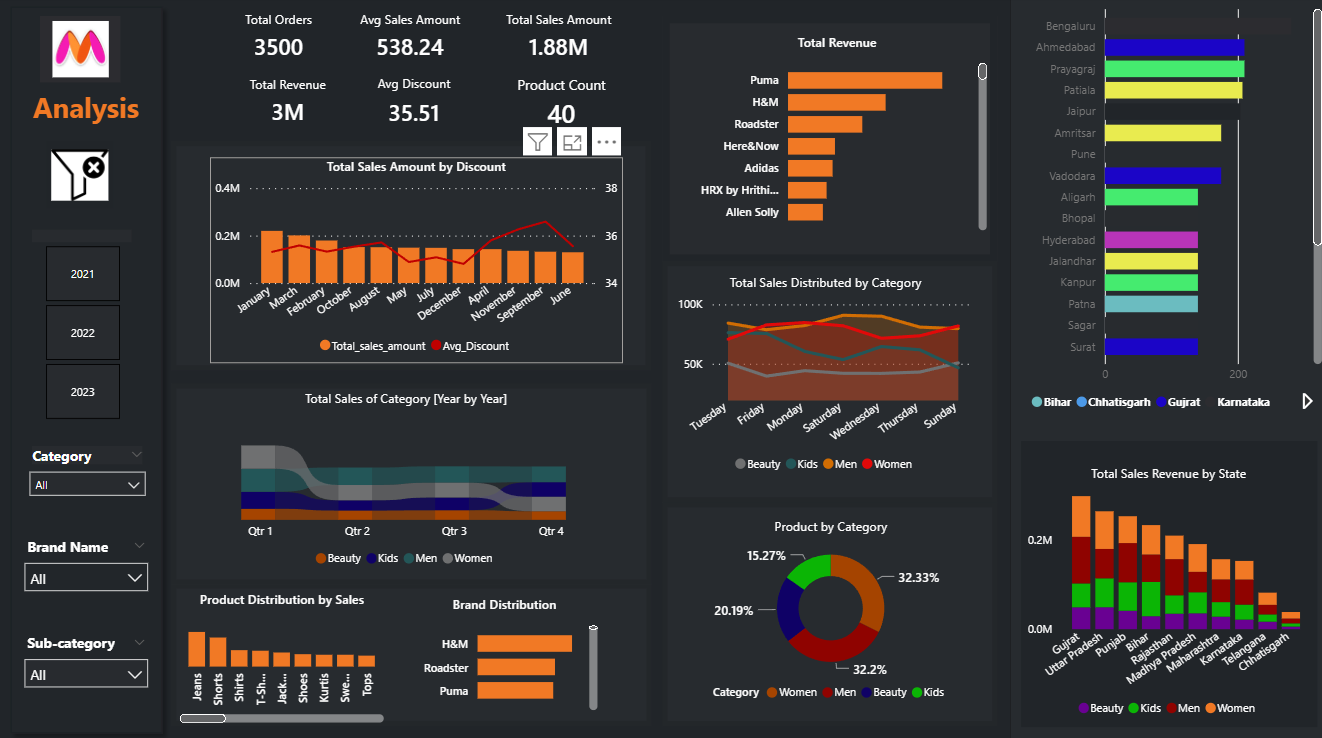

Layout of this report page (visuals, bound fields, positions):
{"tool":"powerbi","page":{"name":"Main","canvas":[1280,720],"ordinal":0},"visuals":[{"type":"shape","box":[975.5,0,304.9,719.4],"z":0},{"type":"shape","box":[975.1,0,304.9,719.4],"z":1000},{"type":"shape","box":[975.1,0.6,304.9,719.4],"z":2000},{"type":"shape","box":[975.1,0.6,304.9,719.4],"z":3000},{"type":"shape","box":[975.5,0,304.9,719.4],"z":4000},{"type":"shape","box":[1,1,164.6,719.4],"z":5000},{"type":"shape","box":[975.1,0.6,304.9,719.4],"z":6000},{"type":"shape","box":[975.1,0.6,304.9,719.4],"z":7000},{"type":"shape","box":[975.1,0.6,304.9,719.4],"z":8000},{"type":"shape","box":[975.1,0.6,304.9,719.4],"z":9000},{"type":"shape","box":[975.1,0.6,304.9,719.4],"z":10000},{"type":"shape","box":[975.1,0.6,304.9,719.4],"z":11000},{"type":"shape","box":[975.1,0.6,304.9,719.4],"z":12000},{"type":"shape","box":[975.1,0.6,304.9,719.4],"z":13000},{"type":"shape","box":[975.1,0.6,304.9,719.4],"z":14000},{"type":"shape","box":[975.1,0.6,304.9,719.4],"z":15000},{"type":"shape","box":[975.1,0.6,304.9,719.4],"z":16000},{"type":"shape","box":[975.1,0.6,304.9,719.4],"z":17000},{"type":"shape","box":[975.1,0.6,304.9,719.4],"z":18000},{"type":"shape","box":[975.1,0.6,304.9,719.4],"z":19000},{"type":"shape","box":[975.1,0.6,304.9,719.4],"z":20000},{"type":"shape","box":[975.1,0.6,304.9,719.4],"z":21000},{"type":"shape","box":[975.1,0.6,304.9,719.4],"z":22000},{"type":"shape","box":[975.1,0.6,304.9,719.4],"z":23000},{"type":"shape","box":[975.1,0.6,304.9,719.4],"z":24000},{"type":"shape","box":[975.1,0.6,304.9,719.4],"z":25000},{"type":"shape","box":[975.1,0.6,304.9,719.4],"z":26000},{"type":"shape","box":[975.1,0.6,304.9,719.4],"z":27000},{"type":"shape","box":[975.1,0.6,304.9,719.4],"z":28000},{"type":"shape","box":[975.1,0.6,304.9,719.4],"z":29000},{"type":"shape","box":[975.1,0.6,304.9,719.4],"z":30000},{"type":"shape","box":[975.1,0.6,304.9,719.4],"z":31000},{"type":"shape","box":[975.1,0.6,304.9,719.4],"z":32000},{"type":"shape","box":[975.1,0.6,304.9,719.4],"z":33000},{"type":"shape","box":[975.1,0.6,304.9,719.4],"z":34000},{"type":"shape","box":[975.1,0.6,304.9,719.4],"z":35000},{"type":"shape","box":[975.1,0.6,304.9,719.4],"z":36000},{"type":"shape","box":[975.1,0.6,304.9,719.4],"z":37000},{"type":"shape","box":[975.1,0.6,304.9,719.4],"z":38000},{"type":"shape","box":[975.1,0.6,304.9,719.4],"z":39000},{"type":"shape","box":[975.1,0.6,304.9,719.4],"z":40000},{"type":"shape","box":[975.1,0.6,304.9,719.4],"z":41000},{"type":"shape","box":[975.1,0.6,304.9,719.4],"z":42000},{"type":"shape","box":[975.1,0.6,304.9,719.4],"z":43000},{"type":"shape","box":[975.1,0.6,304.9,719.4],"z":44000},{"type":"shape","box":[975.1,0.6,304.9,719.4],"z":45000},{"type":"shape","box":[975.1,0.6,304.9,719.4],"z":46000},{"type":"shape","box":[975.1,0.6,304.9,719.4],"z":47000},{"type":"shape","box":[975.1,0.6,304.9,719.4],"z":48000},{"type":"shape","box":[975.1,0.6,304.9,719.4],"z":49000},{"type":"shape","box":[975.1,0.6,304.9,719.4],"z":50000},{"type":"shape","box":[975.1,0.6,304.9,719.4],"z":51000},{"type":"shape","box":[975.1,0.6,304.9,719.4],"z":52000},{"type":"shape","box":[975.1,0.6,304.9,719.4],"z":53000},{"type":"shape","box":[975.1,0.6,304.9,719.4],"z":54000},{"type":"shape","box":[975.1,0.6,304.9,719.4],"z":55000},{"type":"shape","box":[975.1,0.6,304.9,719.4],"z":56000},{"type":"shape","box":[975.1,0.6,304.9,719.4],"z":57000},{"type":"shape","box":[985.1,428.8,285.9,276.3],"z":58000},{"type":"shape","box":[639.7,18.9,323,237],"z":59000},{"type":"shape","box":[164.6,567.3,463.5,137.4],"z":61000},{"type":"shape","box":[639.7,488.7,323,216],"z":62000},{"type":"shape","box":[165.7,139.5,462.5,221.3],"z":63000},{"type":"shape","box":[639.7,255.9,323,232.8],"z":64000},{"type":"shape","box":[164.6,373.3,463.5,194],"z":65000},{"type":"textbox","box":[13.6,84.9,139.5,54.5],"z":66000},{"type":"slicer","title":"Category","fields":{"Values":["Date_table.Year"]},"box":[17.8,220.2,121.6,194],"z":67000},{"type":"card","title":"Total Orders","fields":{"Values":["Measures_Table.Total_orders"]},"box":[211.8,14.7,113.3,56.6],"z":68000},{"type":"card","title":"Avg Discount","fields":{"Values":["Measures_Table.Avg_Discount"]},"box":[334.3,75.5,131.1,59.8],"z":69000},{"type":"card","title":"Avg Sales Amount","fields":{"Values":["Measures_Table.Avg_sales_amount"]},"box":[325.1,14.7,140.5,56.6],"z":70000},{"type":"card","title":"Total Sales Amount","fields":{"Values":["Measures_Table.Total_sales_amount"]},"box":[471.1,14.7,135.3,56.6],"z":71000},{"type":"card","title":"Total Revenue","fields":{"Values":["Measures_Table.Sum_original_price"]},"box":[220.2,77.6,114.3,56.6],"z":72000},{"type":"card","title":"Product Count","fields":{"Values":["Count(dim_products.Product Name)"]},"box":[487.6,76.6,109.1,59.8],"z":73000},{"type":"barChart","title":"Total Revenue","fields":{"Y":["Sum(fact_orders.Sales Amount)"],"Category":["dim_products.Brand Name"]},"box":[658.6,35.7,298.9,195.1],"z":74000},{"type":"columnChart","title":"Total Sales Revenue by State","fields":{"Category":["dim_customers.State"],"Y":["Sum(fact_orders.Sales Amount)"],"Series":["dim_products.Category"]},"box":[986.3,452.6,282.3,252.5],"z":75000},{"type":"donutChart","title":"Product by Category","fields":{"Y":["CountNonNull(dim_products.Product ID)"],"Category":["dim_products.Category"]},"box":[658.6,503.4,286.3,186.7],"z":76000},{"type":"barChart","title":"Brand Distribution","fields":{"Category":["dim_products.Brand Name"],"Y":["CountNonNull(dim_products.Brand Name)"]},"box":[392.2,578.9,189.8,115.4],"z":77000},{"type":"lineStackedColumnComboChart","title":"Total Sales Amount by Discount","fields":{"Category":["Date_table.Month_NAME"],"Y":["Measures_Table.Total_sales_amount"],"Y2":["Measures_Table.Avg_Discount"]},"box":[202.4,155.2,398.5,199.2],"z":78000},{"type":"ribbonChart","title":"Total Sales of Category [Year by Year]","fields":{"Category":["Date_table.Date.Variation.Date Hierarchy.Year","Date_table.Date.Variation.Date Hierarchy.Quarter","Date_table.Date.Variation.Date Hierarchy.Month","Date_table.Date.Variation.Date Hierarchy.Day"],"Y":["Measures_Table.Total_sales_amount"],"Series":["dim_products.Category"]},"box":[190.9,379.6,402.7,180.4],"z":79000},{"type":"columnChart","title":"Product Distribution by Sales","fields":{"Category":["dim_products.Product Name"],"Y":["CountNonNull(dim_products.Product Name)"]},"box":[168.8,573.6,206.6,132.1],"z":80000},{"type":"areaChart","title":"Total Sales Distributed by Category","fields":{"Category":["Date_table.Day of Week"],"Y":["Measures_Table.Total_sales_amount"],"Series":["dim_products.Category"]},"box":[649.1,267.4,295.7,201.3],"z":81000},{"type":"barChart","fields":{"Category":["dim_customers.City"],"Series":["dim_customers.State"],"Y":["Measures_Table.Total_orders"]},"box":[989.9,0,290.5,409],"z":82000},{"type":"slicer","title":"Brand Name","fields":{"Values":["dim_products.Brand Name"]},"box":[13.6,517,139.5,79.7],"z":83000},{"type":"slicer","title":"Category","fields":{"Values":["dim_products.Category"]},"box":[17.8,428.9,132.1,73.4],"z":84000},{"type":"slicer","title":"Sub-Category","fields":{"Values":["dim_products.Sub-category"]},"box":[13.6,610.3,139.5,79.7],"z":85000},{"type":"image","box":[45.1,139.5,65,65],"z":86000},{"type":"image","box":[38.8,18.9,77.6,64],"z":87000}]}

Visuals, with their boxes in screenshot pixels (x1, y1, x2, y2), scaled from the page's 1280x720 canvas onto the 1322x738 screenshot:
shape: (left=1008, top=0, right=1321, bottom=737)
shape: (left=1007, top=0, right=1321, bottom=737)
shape: (left=1007, top=1, right=1321, bottom=737)
shape: (left=1007, top=1, right=1321, bottom=737)
shape: (left=1008, top=0, right=1321, bottom=737)
shape: (left=1, top=1, right=171, bottom=737)
shape: (left=1007, top=1, right=1321, bottom=737)
shape: (left=1007, top=1, right=1321, bottom=737)
shape: (left=1007, top=1, right=1321, bottom=737)
shape: (left=1007, top=1, right=1321, bottom=737)
shape: (left=1007, top=1, right=1321, bottom=737)
shape: (left=1007, top=1, right=1321, bottom=737)
shape: (left=1007, top=1, right=1321, bottom=737)
shape: (left=1007, top=1, right=1321, bottom=737)
shape: (left=1007, top=1, right=1321, bottom=737)
shape: (left=1007, top=1, right=1321, bottom=737)
shape: (left=1007, top=1, right=1321, bottom=737)
shape: (left=1007, top=1, right=1321, bottom=737)
shape: (left=1007, top=1, right=1321, bottom=737)
shape: (left=1007, top=1, right=1321, bottom=737)
shape: (left=1007, top=1, right=1321, bottom=737)
shape: (left=1007, top=1, right=1321, bottom=737)
shape: (left=1007, top=1, right=1321, bottom=737)
shape: (left=1007, top=1, right=1321, bottom=737)
shape: (left=1007, top=1, right=1321, bottom=737)
shape: (left=1007, top=1, right=1321, bottom=737)
shape: (left=1007, top=1, right=1321, bottom=737)
shape: (left=1007, top=1, right=1321, bottom=737)
shape: (left=1007, top=1, right=1321, bottom=737)
shape: (left=1007, top=1, right=1321, bottom=737)
shape: (left=1007, top=1, right=1321, bottom=737)
shape: (left=1007, top=1, right=1321, bottom=737)
shape: (left=1007, top=1, right=1321, bottom=737)
shape: (left=1007, top=1, right=1321, bottom=737)
shape: (left=1007, top=1, right=1321, bottom=737)
shape: (left=1007, top=1, right=1321, bottom=737)
shape: (left=1007, top=1, right=1321, bottom=737)
shape: (left=1007, top=1, right=1321, bottom=737)
shape: (left=1007, top=1, right=1321, bottom=737)
shape: (left=1007, top=1, right=1321, bottom=737)
shape: (left=1007, top=1, right=1321, bottom=737)
shape: (left=1007, top=1, right=1321, bottom=737)
shape: (left=1007, top=1, right=1321, bottom=737)
shape: (left=1007, top=1, right=1321, bottom=737)
shape: (left=1007, top=1, right=1321, bottom=737)
shape: (left=1007, top=1, right=1321, bottom=737)
shape: (left=1007, top=1, right=1321, bottom=737)
shape: (left=1007, top=1, right=1321, bottom=737)
shape: (left=1007, top=1, right=1321, bottom=737)
shape: (left=1007, top=1, right=1321, bottom=737)
shape: (left=1007, top=1, right=1321, bottom=737)
shape: (left=1007, top=1, right=1321, bottom=737)
shape: (left=1007, top=1, right=1321, bottom=737)
shape: (left=1007, top=1, right=1321, bottom=737)
shape: (left=1007, top=1, right=1321, bottom=737)
shape: (left=1007, top=1, right=1321, bottom=737)
shape: (left=1007, top=1, right=1321, bottom=737)
shape: (left=1007, top=1, right=1321, bottom=737)
shape: (left=1017, top=440, right=1313, bottom=723)
shape: (left=661, top=19, right=994, bottom=262)
shape: (left=170, top=581, right=649, bottom=722)
shape: (left=661, top=501, right=994, bottom=722)
shape: (left=171, top=143, right=649, bottom=370)
shape: (left=661, top=262, right=994, bottom=501)
shape: (left=170, top=383, right=649, bottom=581)
textbox: (left=14, top=87, right=158, bottom=143)
"Category" slicer: (left=18, top=226, right=144, bottom=425)
"Total Orders" card: (left=219, top=15, right=336, bottom=73)
"Avg Discount" card: (left=345, top=77, right=481, bottom=139)
"Avg Sales Amount" card: (left=336, top=15, right=481, bottom=73)
"Total Sales Amount" card: (left=487, top=15, right=626, bottom=73)
"Total Revenue" card: (left=227, top=80, right=345, bottom=138)
"Product Count" card: (left=504, top=79, right=616, bottom=140)
"Total Revenue" barChart: (left=680, top=37, right=989, bottom=237)
"Total Sales Revenue by State" columnChart: (left=1019, top=464, right=1310, bottom=723)
"Product by Category" donutChart: (left=680, top=516, right=976, bottom=707)
"Brand Distribution" barChart: (left=405, top=593, right=601, bottom=712)
"Total Sales Amount by Discount" lineStackedColumnComboChart: (left=209, top=159, right=621, bottom=363)
"Total Sales of Category [Year by Year]" ribbonChart: (left=197, top=389, right=613, bottom=574)
"Product Distribution by Sales" columnChart: (left=174, top=588, right=388, bottom=723)
"Total Sales Distributed by Category" areaChart: (left=670, top=274, right=976, bottom=480)
barChart - dim_customers.City x dim_customers.State: (left=1022, top=0, right=1321, bottom=419)
"Brand Name" slicer: (left=14, top=530, right=158, bottom=612)
"Category" slicer: (left=18, top=440, right=155, bottom=515)
"Sub-Category" slicer: (left=14, top=626, right=158, bottom=707)
image: (left=47, top=143, right=114, bottom=210)
image: (left=40, top=19, right=120, bottom=85)
